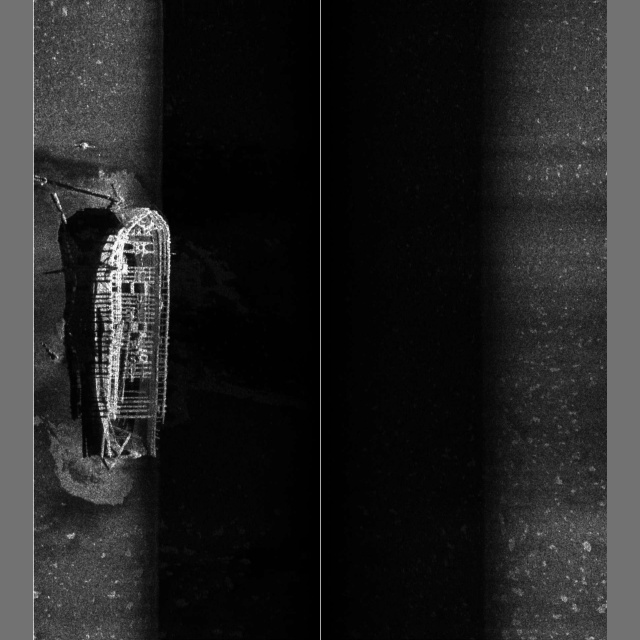Shipwreck: (53, 181, 178, 471)
